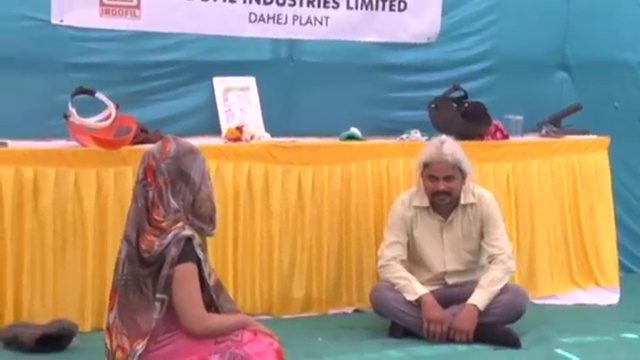helmet_off: (134, 138, 217, 234), (419, 138, 468, 211)
person: (101, 134, 286, 360), (364, 134, 533, 349)
